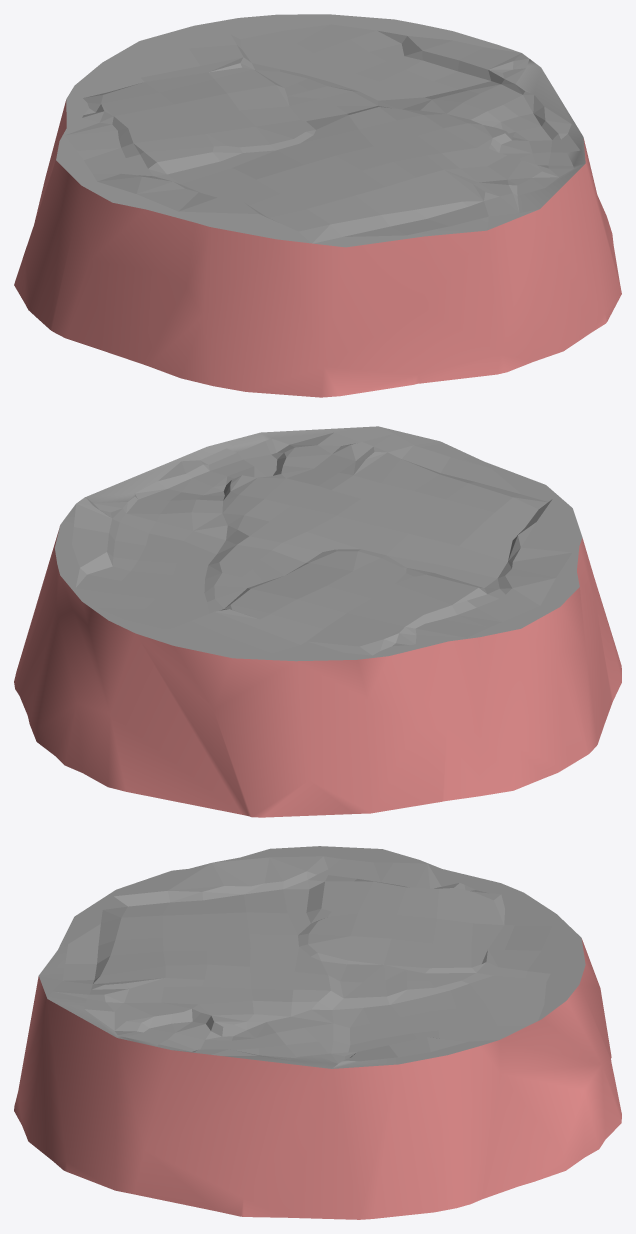
Rendered from SM_ENV_LKNVLD_Kurama_Statue_Daiza.gltf.
3 renders of one model, top to bottom at view 1: azimuth 30°, elevation 25°; view 2: azimuth 150°, elevation 25°; view 3: azimuth 270°, elevation 25°, orthographic. The views are drawn at different scales.
Parts seen in each view (by area): view 1: SM_ENV_LKNVLD_Kurama_Statue_Daiza; view 2: SM_ENV_LKNVLD_Kurama_Statue_Daiza; view 3: SM_ENV_LKNVLD_Kurama_Statue_Daiza.
Part boxes in pixels (box(x1,y1,x2,y2)): SM_ENV_LKNVLD_Kurama_Statue_Daiza: box(14, 14, 621, 397); SM_ENV_LKNVLD_Kurama_Statue_Daiza: box(14, 426, 621, 817); SM_ENV_LKNVLD_Kurama_Statue_Daiza: box(14, 846, 621, 1219).
Size of the model in its own units: 7.99 by 2.09 by 8.14.
